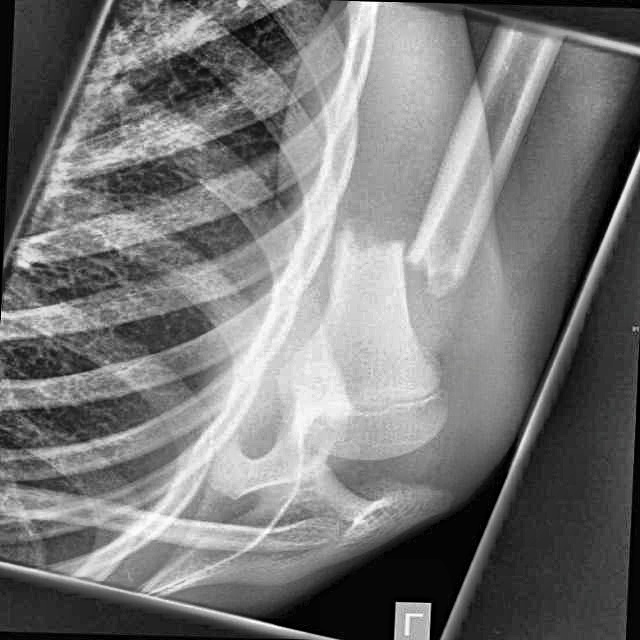Transverse: (316, 186, 519, 323)
